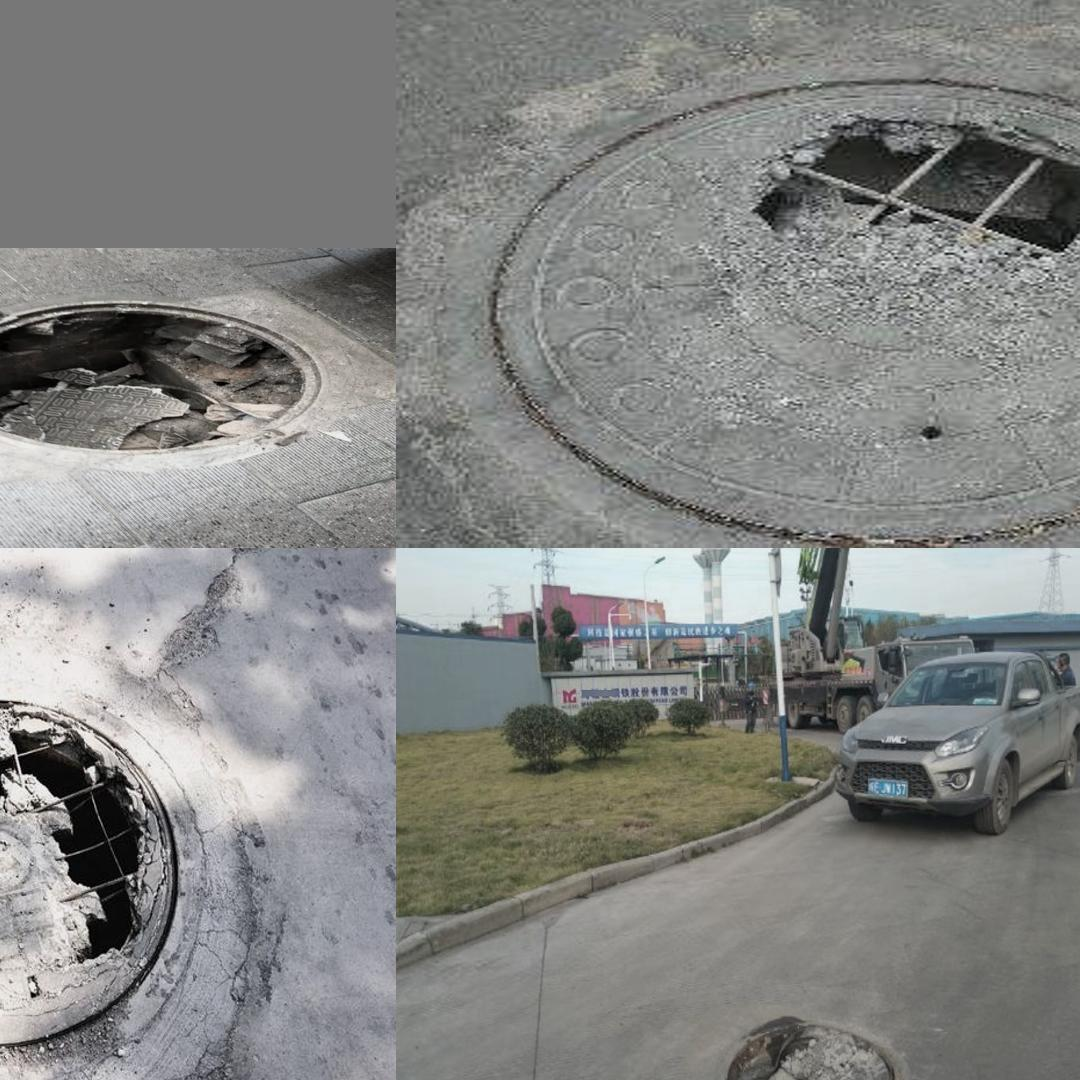broke: (490, 78, 1080, 543), (0, 662, 285, 1080), (0, 295, 324, 468), (727, 1021, 897, 1080)
